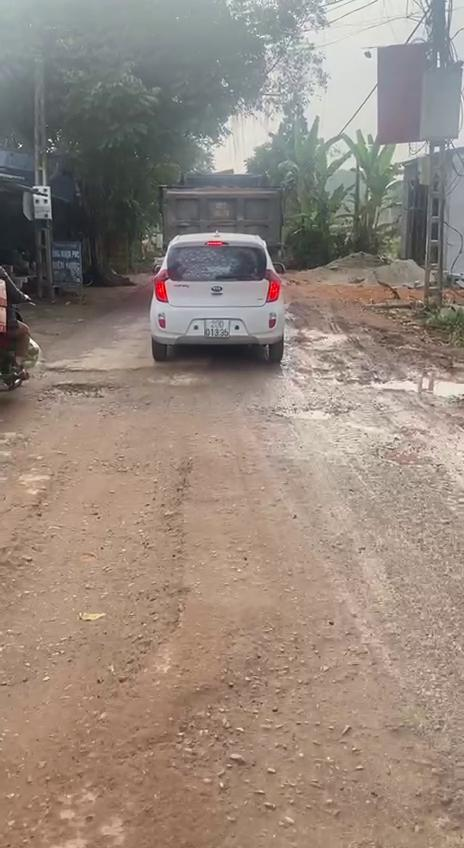pothole: (0, 464, 197, 701), (40, 382, 122, 404), (270, 399, 341, 423)
